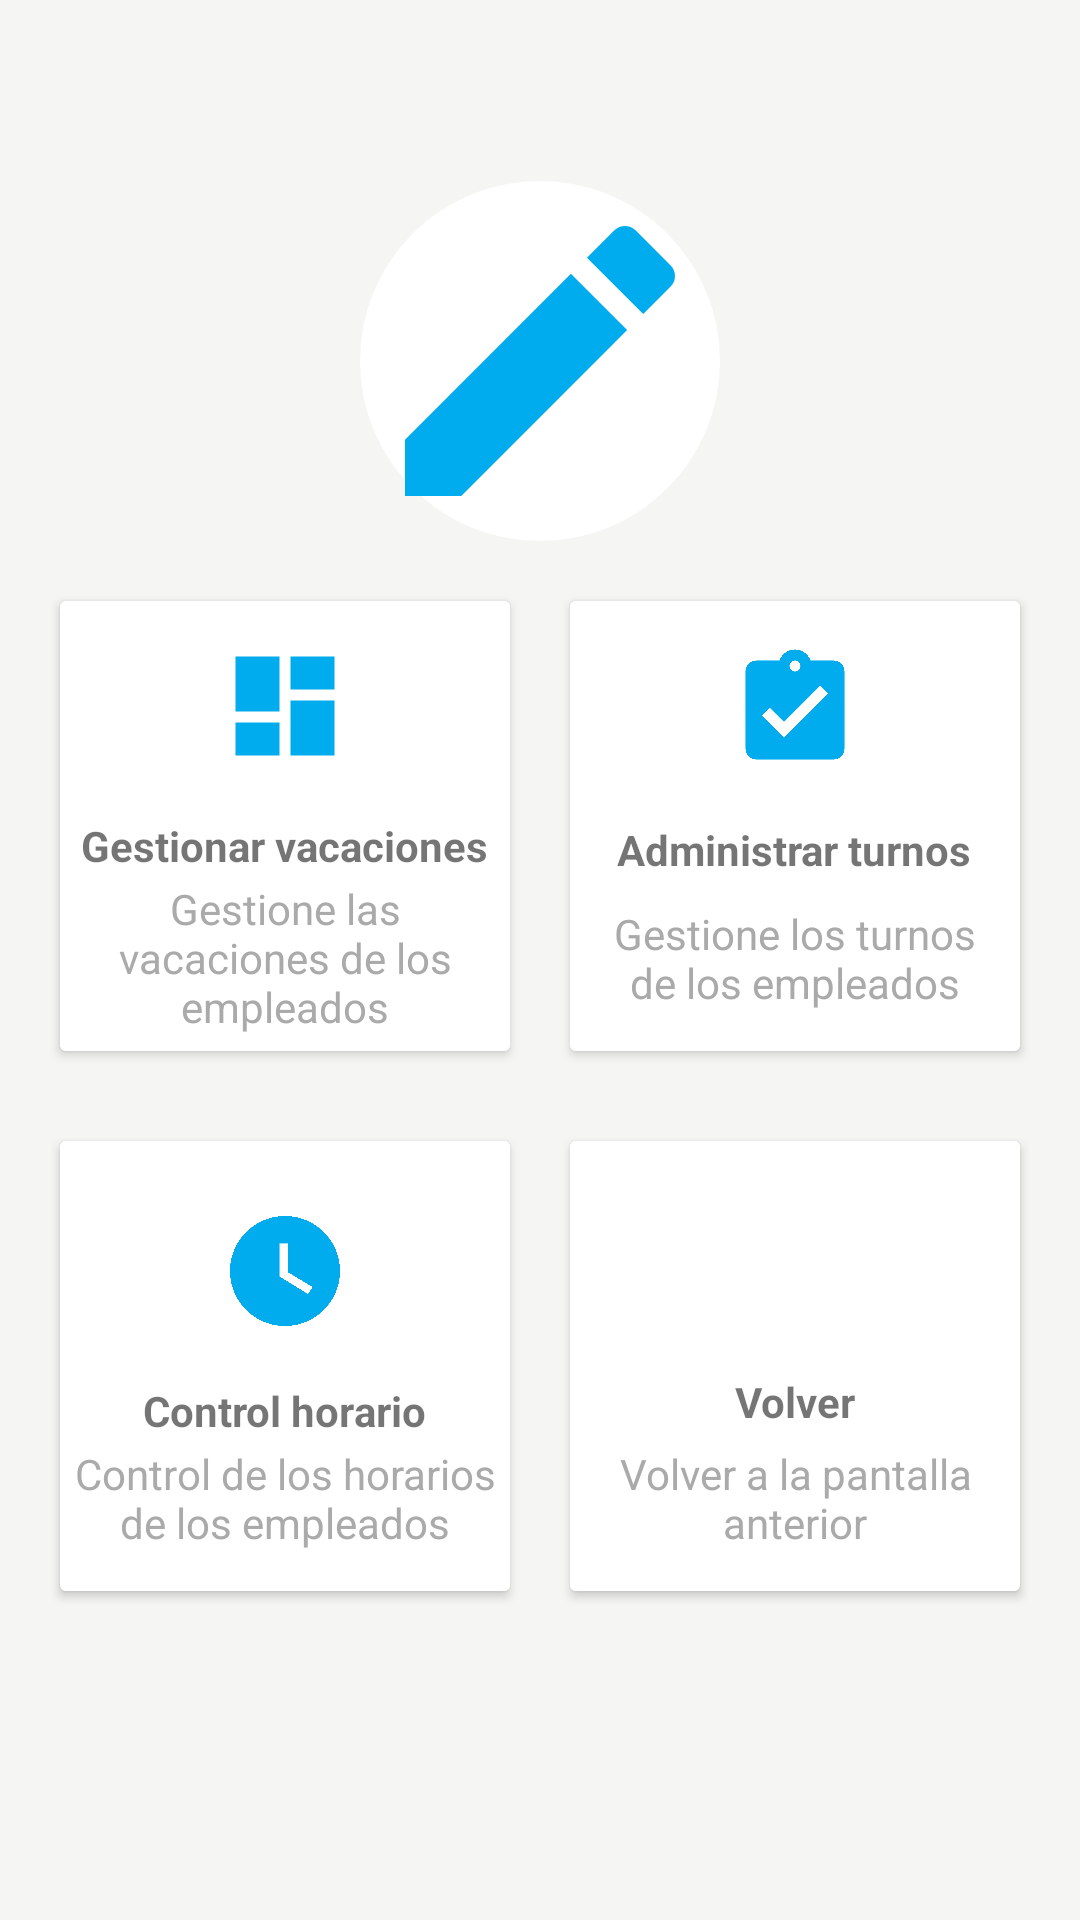

Icons on this 1080w x 1920h Android screen, each with the point to tap as (x,y):
assignment turned in: (795,704)
dashboard: (285,706)
edit: (540,361)
watch later: (285,1271)
